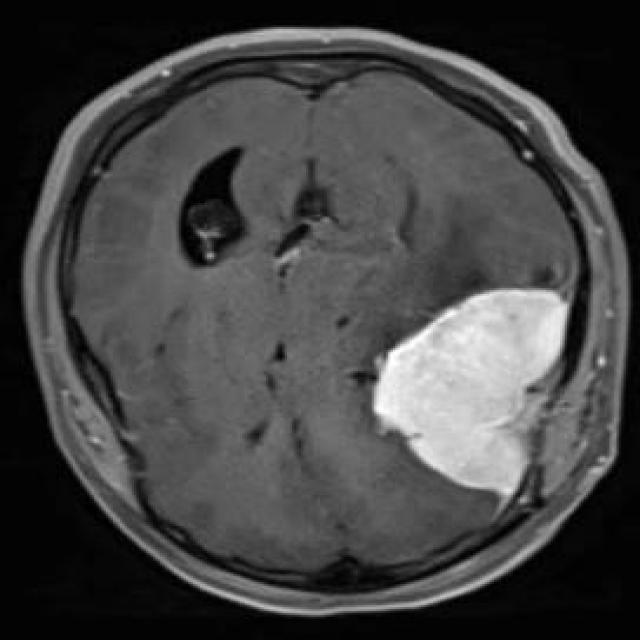Tumor-Cell: (385, 274, 573, 500)
